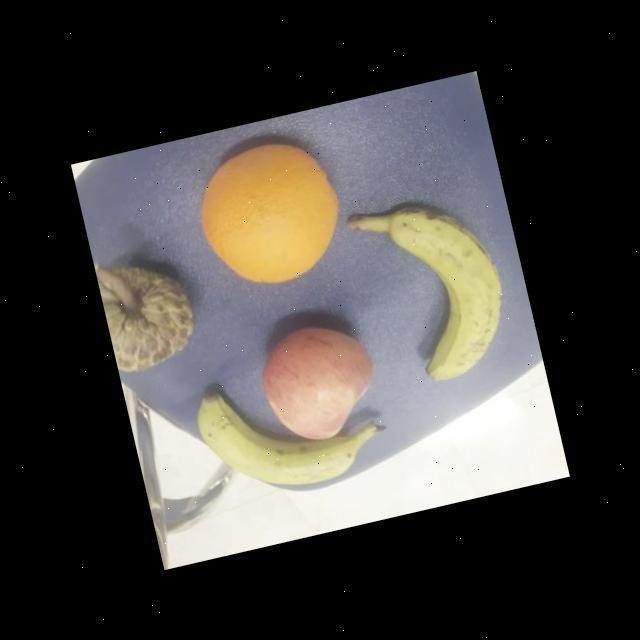Sakya fruit: (94, 246, 203, 382)
apple: (250, 315, 388, 451)
banana: (380, 188, 524, 396)
orange: (184, 128, 354, 298)
